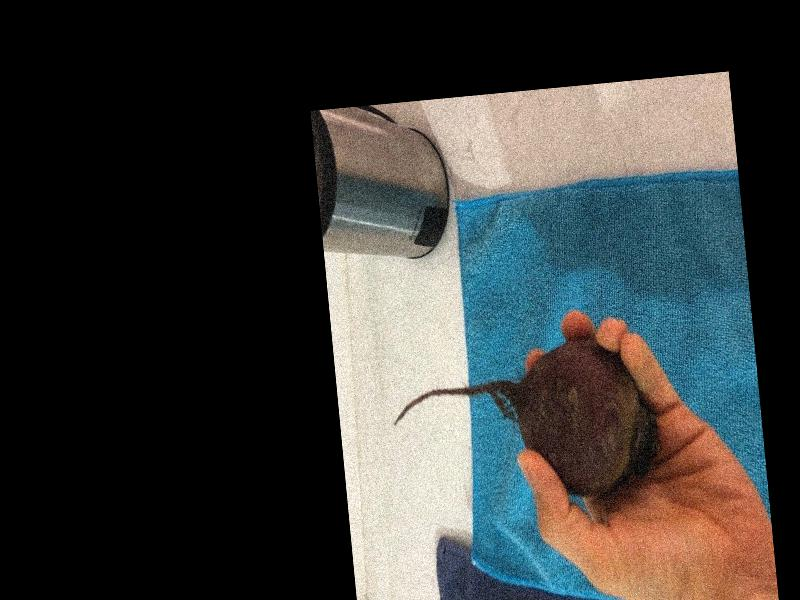Beet: (388, 331, 664, 514)
